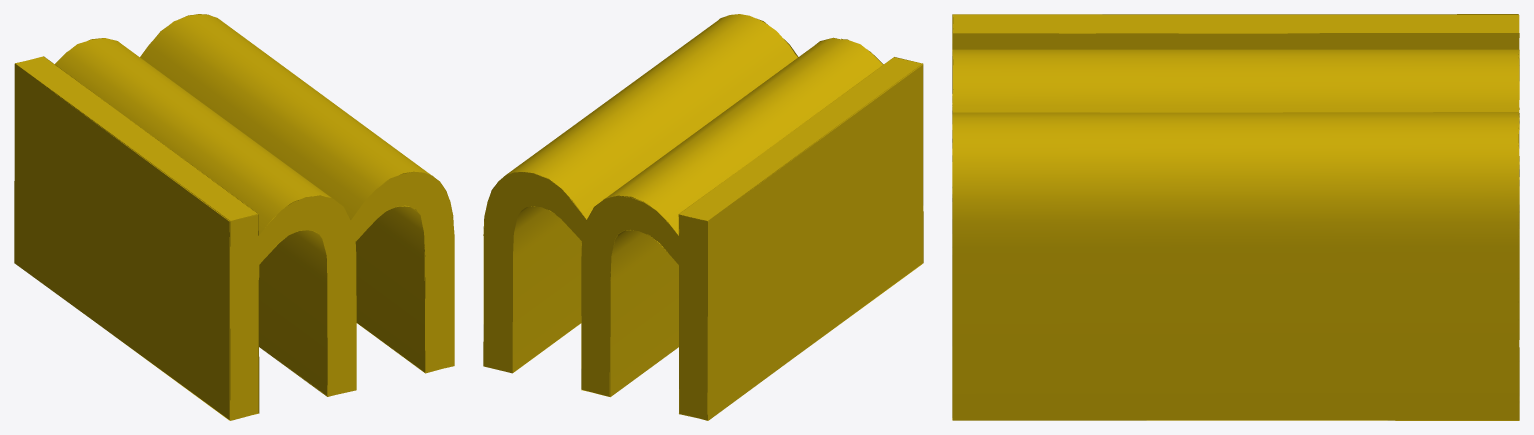
The model's file is original-5.obj.
3 views of the same model, side by side, from view 1: azimuth 30°, elevation 25°; view 2: azimuth 150°, elevation 25°; view 3: azimuth 270°, elevation 25° (orthographic). The views are drawn at different scales.
Visible parts, largest first — view 1: #ID31; view 2: #ID31; view 3: #ID31.
Part boxes in pixels (x1,y1,x2,y2): #ID31: (14,14,454,420); #ID31: (483,14,923,420); #ID31: (952,14,1519,420).
Bounding box in the file's own units: 0.0466 × 0.0407 × 0.0774.
